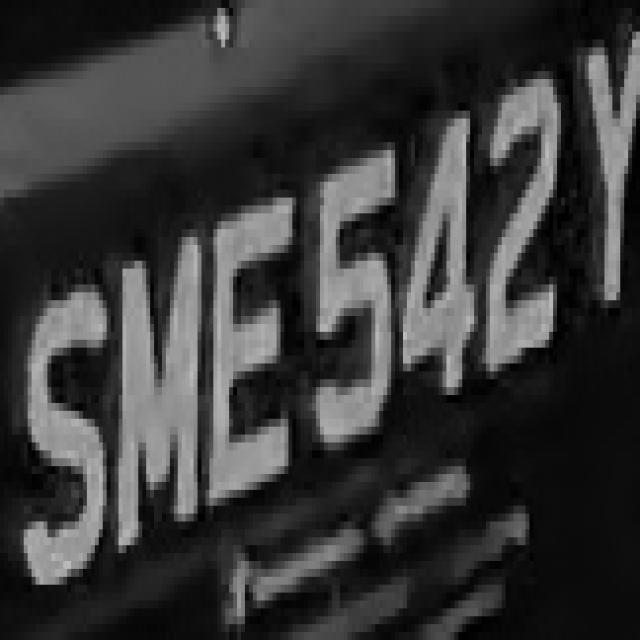2: (478, 55, 569, 387)
4: (379, 71, 482, 435)
5: (300, 134, 395, 474)
E: (210, 166, 296, 521)
M: (107, 213, 209, 577)
S: (20, 276, 106, 608)
Y: (569, 32, 640, 340)
